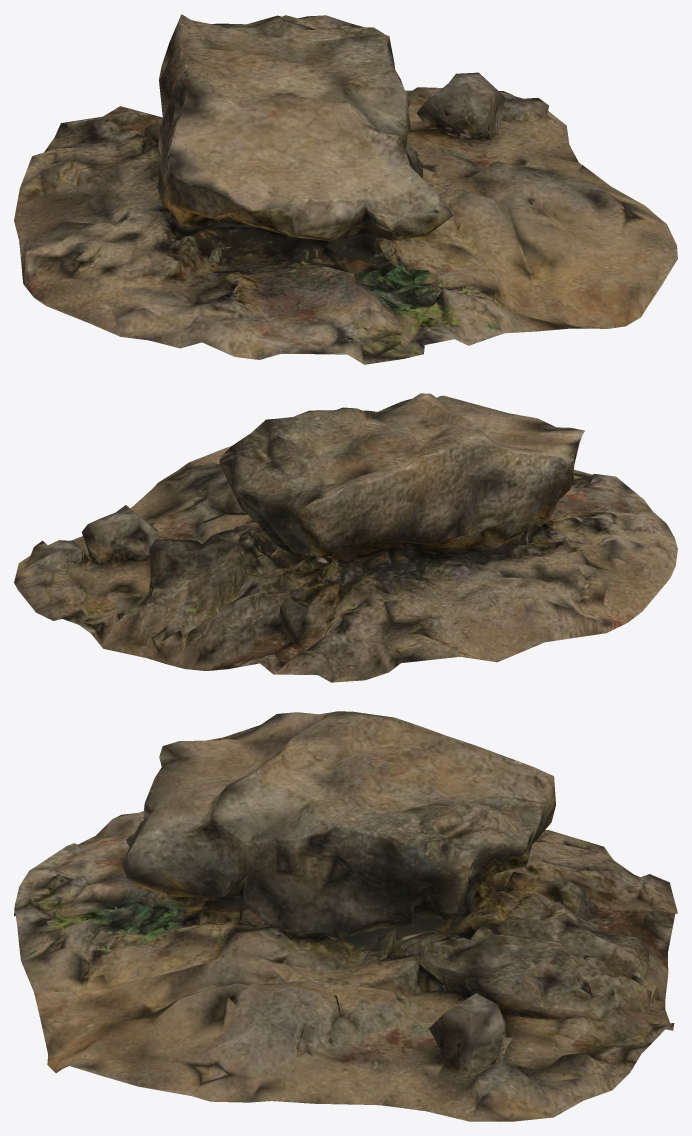
File: rock-b.glb
3 views of the same model, one above another, from view 1: azimuth 30°, elevation 25°; view 2: azimuth 150°, elevation 25°; view 3: azimuth 270°, elevation 25° (orthographic). The views are drawn at different scales.
Visible parts, largest first — view 1: coast_rocks_05; view 2: coast_rocks_05; view 3: coast_rocks_05.
Boxes of the visible parts, x1=… form: coast_rocks_05: x1=14, y1=14, x2=677, y2=364; coast_rocks_05: x1=14, y1=393, x2=677, y2=682; coast_rocks_05: x1=14, y1=711, x2=677, y2=1121.
Size of the model in its own units: 4.03 by 1.31 by 3.75.
Materials: 1 (1 with a texture image).
